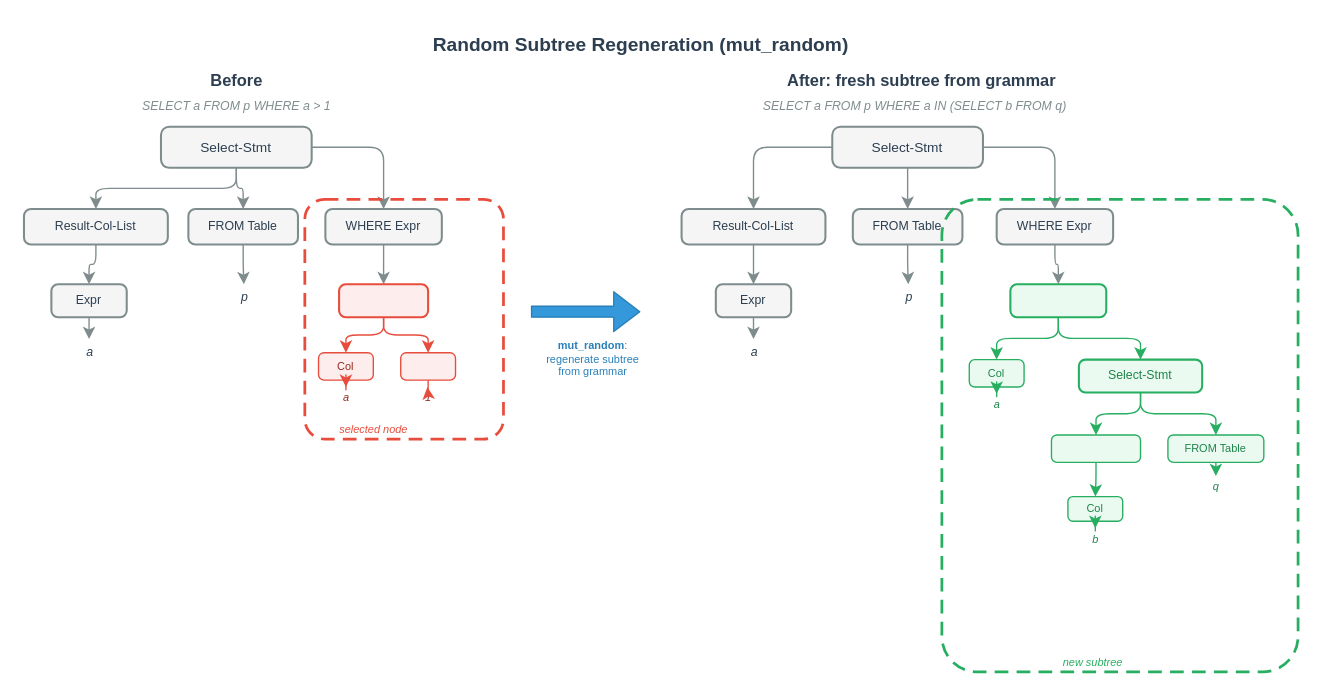
The diagram is 1323 pixels wide and 696 high, and some of its shapes have lost their labels. Each missing label, with the centre of its shape:
"Expr (>)" goes at [383,300].
"Expr (IN)" goes at [1058,300].
"Num" goes at [427,365].
"Result-Col" goes at [1095,448].
